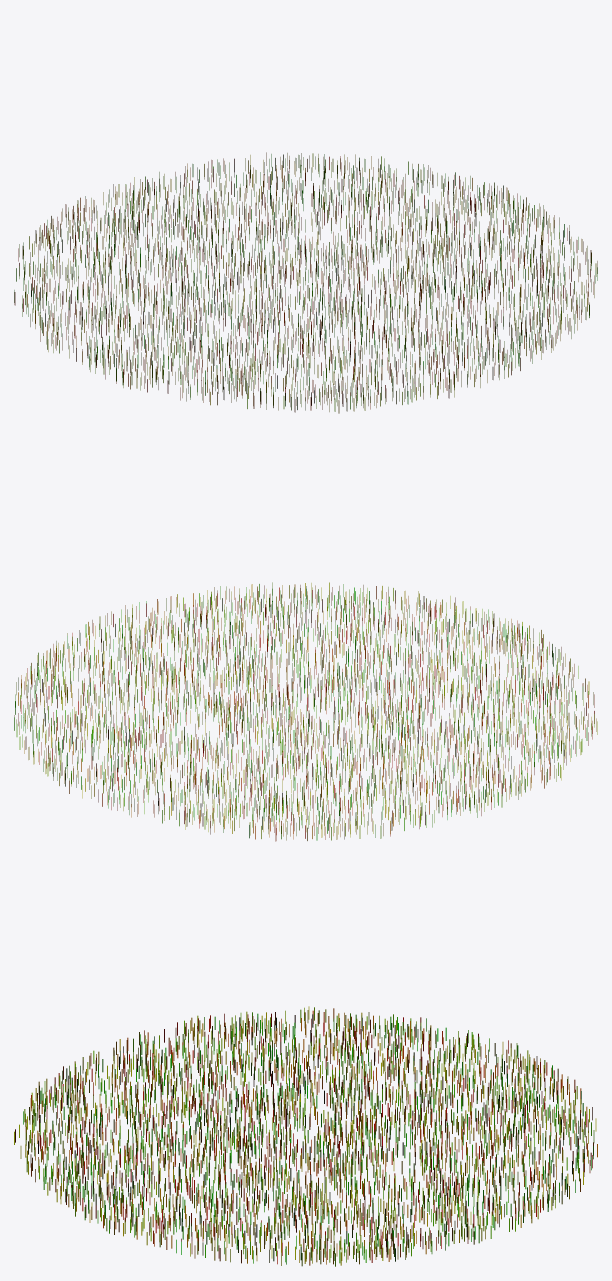
Rendered from SM_VFX_RainMesh_High.FBX.
3 views of the same model, one above another, from view 1: azimuth 30°, elevation 25°; view 2: azimuth 150°, elevation 25°; view 3: azimuth 270°, elevation 25° (orthographic).
Visible parts, largest first — view 1: SM_VFX_RainMesh_High; view 2: SM_VFX_RainMesh_High; view 3: SM_VFX_RainMesh_High.
Part boxes in pixels (box(x1,y1,x2,y2)): SM_VFX_RainMesh_High: box(14, 152, 597, 413); SM_VFX_RainMesh_High: box(14, 582, 597, 841); SM_VFX_RainMesh_High: box(14, 1006, 597, 1266).
Size of what is drawn, in the model's own units: 1982 by 1980 by 1025.
